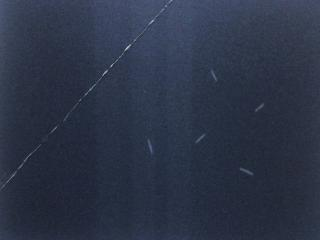crack: (0, 0, 172, 189)
scratch: (187, 124, 209, 147), (244, 99, 266, 121), (228, 162, 255, 179), (206, 64, 222, 87), (143, 135, 156, 157)
